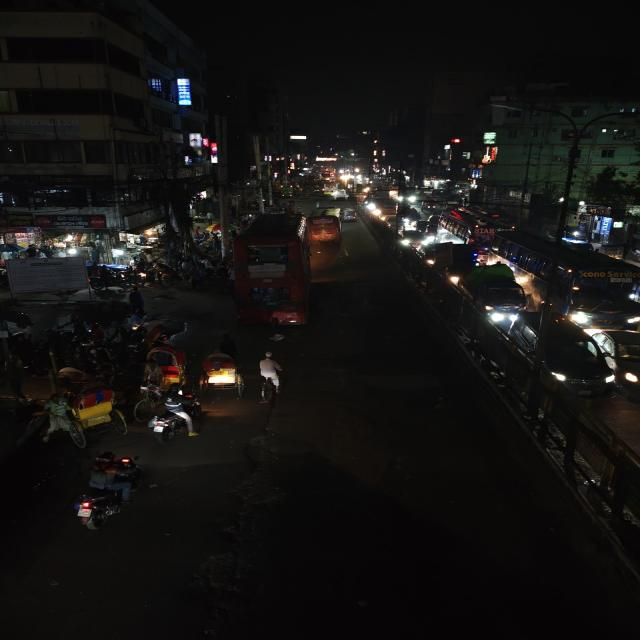bus: (496, 230, 640, 327), (227, 212, 316, 332), (437, 211, 495, 245), (308, 210, 342, 244)
car: (514, 316, 616, 400), (456, 265, 528, 328), (589, 328, 640, 391), (398, 228, 425, 248)
cng: (342, 207, 358, 223)
motorcycle: (70, 452, 144, 532), (133, 388, 204, 442)
pedestrian: (255, 349, 285, 403)
rickshaw: (38, 381, 129, 443), (197, 350, 250, 396), (143, 346, 190, 386)
